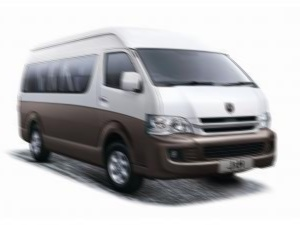van: (19, 27, 276, 184)
